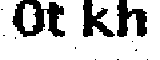0: (6, 1, 45, 41)
h: (116, 1, 148, 38)
k: (78, 1, 115, 39)
t: (46, 1, 71, 42)
